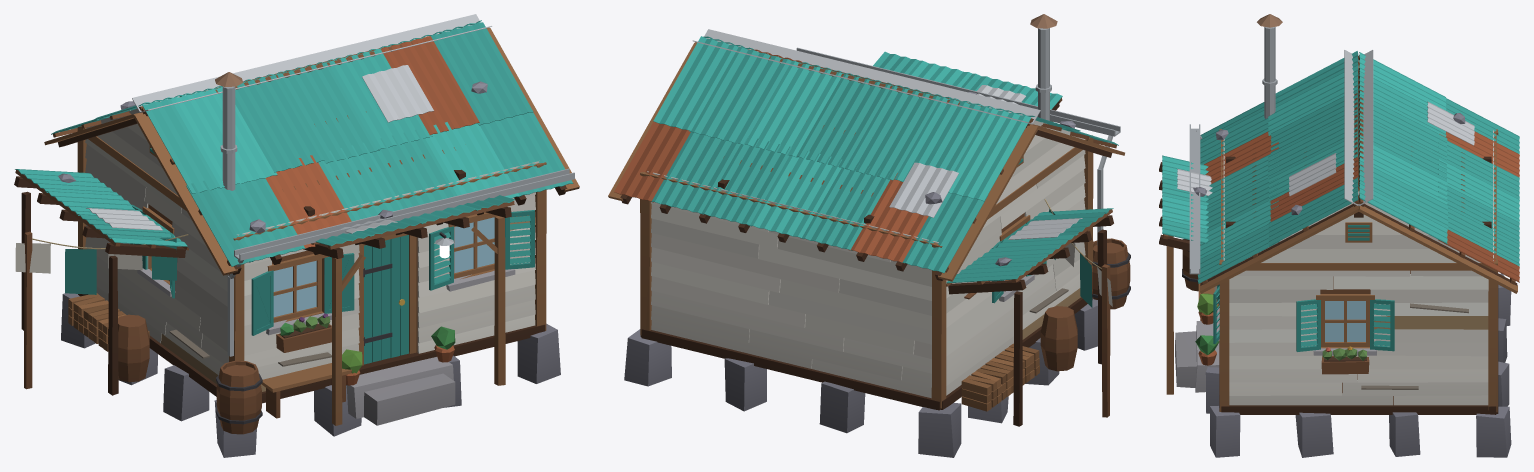
3 views of the same model, side by side, from view 1: azimuth 30°, elevation 25°; view 2: azimuth 150°, elevation 25°; view 3: azimuth 270°, elevation 25° (orthographic). The views are drawn at different scales.
Visible parts, largest first — view 1: H16_ROOF, H16_WALL_S, H16_WALL_W, H16_BASE, H16_DOOR_main; view 2: H16_ROOF, H16_WALL_N, H16_WALL_W, H16_BASE, H16_WALL_S; view 3: H16_ROOF, H16_WALL_E, H16_BASE, H16_WALL_S, H16_WALL_N.
Boxes of the visible parts, box(x1,y1,x2,y2) form: H16_ROOF: box(44, 14, 579, 275); H16_WALL_S: box(216, 161, 574, 434); H16_WALL_W: box(14, 101, 244, 395); H16_BASE: box(61, 293, 560, 457); H16_DOOR_main: box(363, 235, 408, 364); H16_ROOF: box(608, 14, 1124, 281); H16_WALL_N: box(640, 171, 940, 408); H16_WALL_W: box(938, 120, 1113, 426); H16_BASE: box(624, 291, 1097, 457); H16_WALL_S: box(796, 47, 1130, 309); H16_ROOF: box(1197, 14, 1519, 293); H16_WALL_E: box(1219, 187, 1497, 411); H16_BASE: box(1175, 272, 1511, 457); H16_WALL_S: box(1159, 124, 1224, 404); H16_WALL_N: box(1488, 130, 1498, 412).
Bounding box in the file's own units: 6.91 × 5.18 × 5.38.
